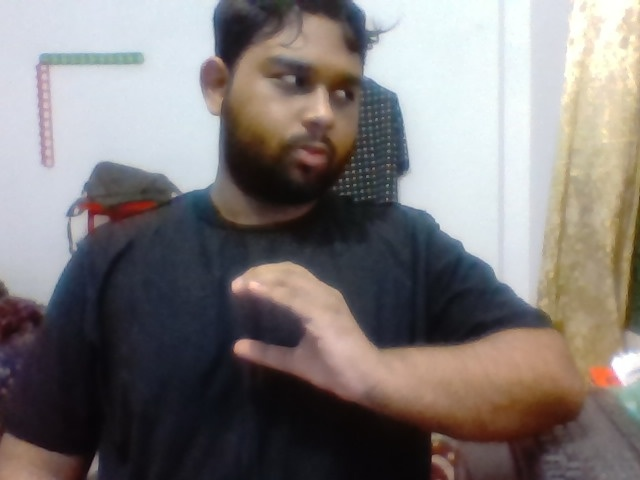C: (216, 251, 406, 422)
